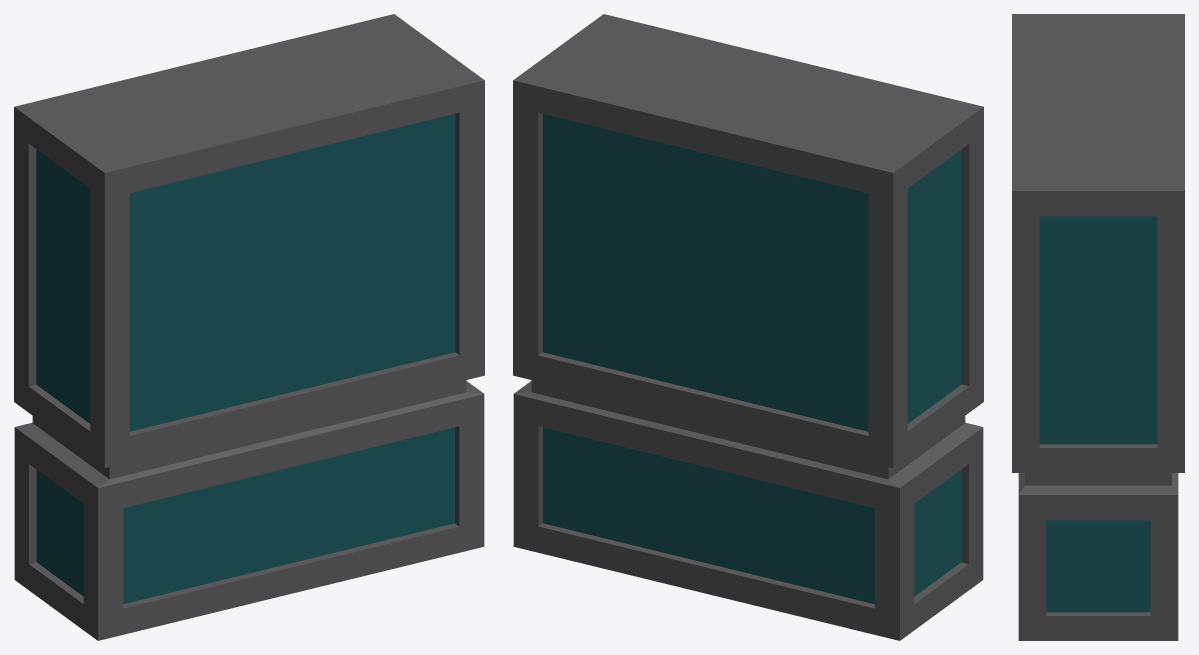
Rendered from building 2_jh_031725.fbx.
3 views of the same model, side by side, from view 1: azimuth 30°, elevation 25°; view 2: azimuth 150°, elevation 25°; view 3: azimuth 270°, elevation 25° (orthographic). The views are drawn at different scales.
Visible parts, largest first — view 1: Cube.024; view 2: Cube.024; view 3: Cube.024.
Boxes of the visible parts, left/top/right/bottom form: Cube.024: left=14, top=14, right=484, bottom=640; Cube.024: left=513, top=14, right=983, bottom=640; Cube.024: left=1012, top=14, right=1184, bottom=640.
Size of the model in its own units: 1394 by 1619 by 566.
